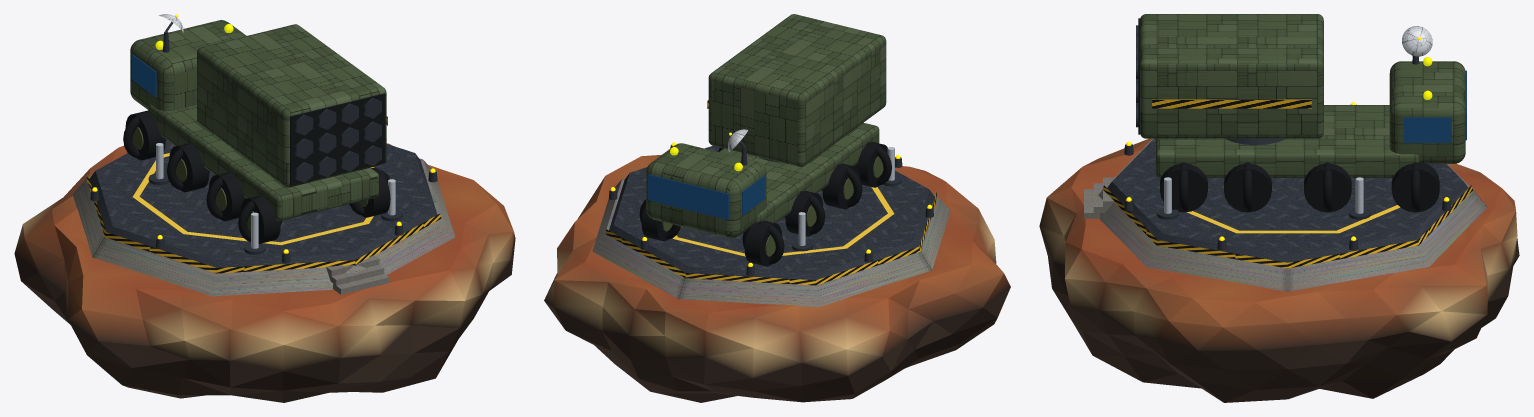
Rendered from mlrs-L25.glb.
3 renders of one model, left to right at view 1: azimuth 30°, elevation 25°; view 2: azimuth 150°, elevation 25°; view 3: azimuth 270°, elevation 25°, orthographic. The views are drawn at different scales.
Parts seen in each view (by area): view 1: object 1, anim:pitch, object 4, object 2, object 25, object 26, object 3, object 5, object 35, object 41, object 32, object 38 (+8 smaller); view 2: object 1, anim:pitch, object 4, object 2, object 26, object 25, object 27, object 3, object 32, object 5, object 38, object 41 (+7 smaller); view 3: object 1, anim:pitch, object 4, object 25, object 2, object 26, object 3, object 44, object 47, object 50, object 53, object 29 (+6 smaller).
Boxes of the visible parts, x1=… form: object 1: x1=14, y1=143, x2=515, y2=402; anim:pitch: x1=197, y1=24, x2=387, y2=187; object 4: x1=89, y1=139, x2=437, y2=267; object 2: x1=72, y1=158, x2=454, y2=296; object 25: x1=148, y1=104, x2=378, y2=220; object 26: x1=130, y1=20, x2=246, y2=110; object 3: x1=86, y1=174, x2=441, y2=273; object 5: x1=132, y1=153, x2=374, y2=245; object 35: x1=169, y1=143, x2=209, y2=192; object 41: x1=240, y1=195, x2=280, y2=243; object 32: x1=125, y1=110, x2=165, y2=160; object 38: x1=208, y1=172, x2=246, y2=221; object 1: x1=544, y1=154, x2=1010, y2=402; anim:pitch: x1=707, y1=14, x2=886, y2=166; object 4: x1=609, y1=146, x2=934, y2=280; object 2: x1=592, y1=177, x2=950, y2=307; object 26: x1=646, y1=143, x2=766, y2=238; object 25: x1=719, y1=122, x2=879, y2=232; object 27: x1=648, y1=174, x2=729, y2=219; object 3: x1=605, y1=192, x2=937, y2=285; object 32: x1=744, y1=220, x2=782, y2=266; object 5: x1=672, y1=187, x2=894, y2=256; object 38: x1=822, y1=163, x2=860, y2=209; object 41: x1=854, y1=141, x2=887, y2=187; object 1: x1=1039, y1=138, x2=1519, y2=402; anim:pitch: x1=1136, y1=14, x2=1323, y2=138; object 4: x1=1107, y1=138, x2=1468, y2=262; object 25: x1=1156, y1=105, x2=1419, y2=177; object 2: x1=1098, y1=138, x2=1487, y2=291; object 26: x1=1389, y1=61, x2=1465, y2=163; object 3: x1=1102, y1=185, x2=1472, y2=268; object 44: x1=1391, y1=162, x2=1439, y2=212; object 47: x1=1304, y1=164, x2=1351, y2=212; object 50: x1=1224, y1=164, x2=1271, y2=212; object 53: x1=1160, y1=164, x2=1207, y2=212; object 29: x1=1403, y1=117, x2=1451, y2=142.
Bounding box in the file's own units: 6.16 × 4.17 × 6.01.
Materials: 15 (6 with a texture image).
